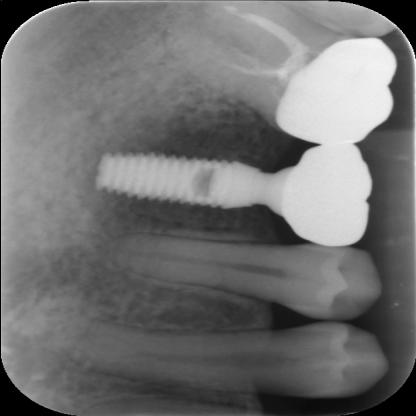Bicon: (92, 142, 288, 220)
